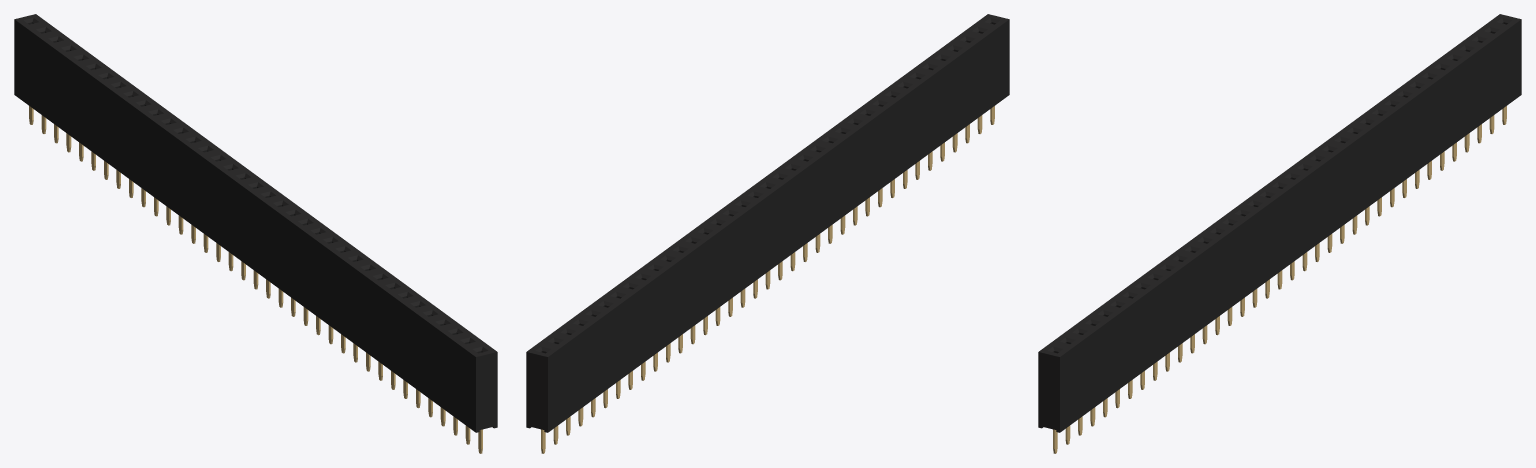
File: kc-pinsocket_1x37_p2.54mm_vertical.glb
3 views of the same model, side by side, from view 1: azimuth 30°, elevation 25°; view 2: azimuth 150°, elevation 25°; view 3: azimuth 330°, elevation 25° (orthographic).
Parts seen in each view (by area): view 1: 0_0_0_0, 0.75_0.5_0.25_0.9; view 2: 0_0_0_0, 0.75_0.5_0.25_0.9; view 3: 0_0_0_0, 0.75_0.5_0.25_0.9.
Part boxes in pixels (left/top/right/bottom): 0_0_0_0: left=14, top=14, right=497, bottom=432; 0.75_0.5_0.25_0.9: left=29, top=106, right=482, bottom=453; 0_0_0_0: left=526, top=14, right=1009, bottom=432; 0.75_0.5_0.25_0.9: left=541, top=106, right=994, bottom=453; 0_0_0_0: left=1038, top=14, right=1521, bottom=432; 0.75_0.5_0.25_0.9: left=1053, top=106, right=1506, bottom=453.
Bounding box in the file's own units: 0.2535 × 1.16 × 9.4.
